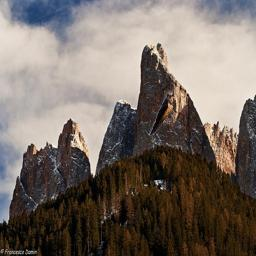Swallow: (149, 90, 173, 136)
